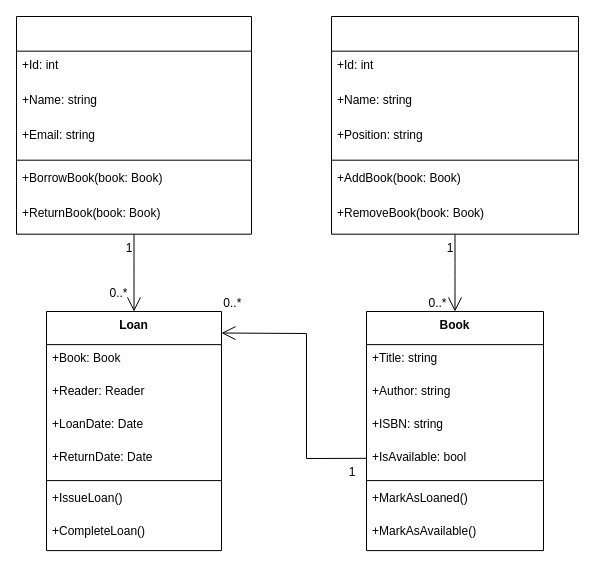
This 595x567 diagram has some shape labels left out. The box of each missing label's shape, as (x1, y1, x2, y2) in pixels:
Library: (330, 16, 578, 234)
Reader: (16, 16, 252, 234)
